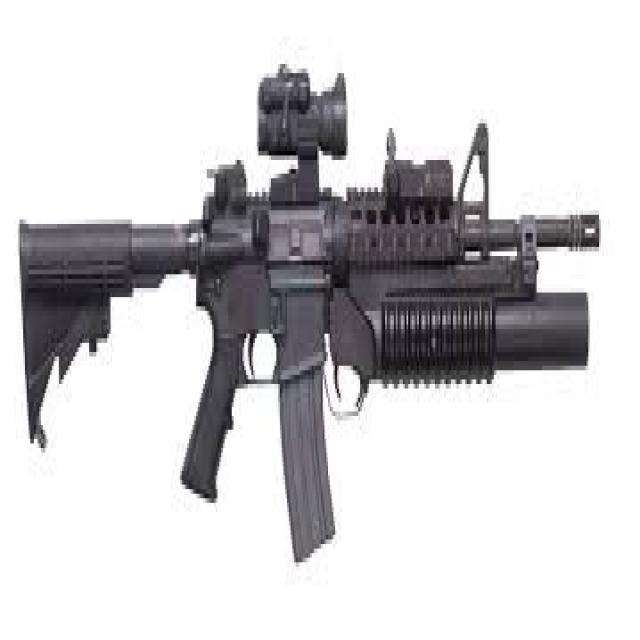rifle: (8, 41, 608, 581)
